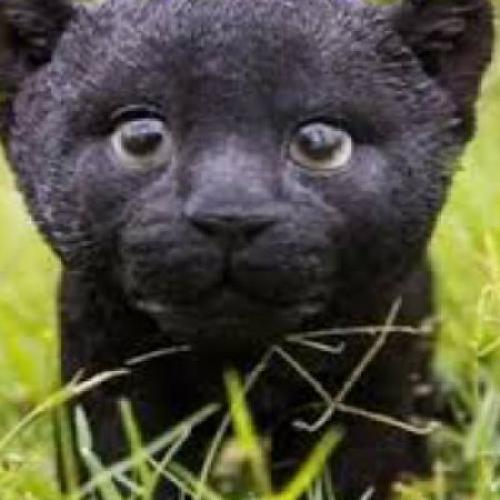panther-endangered: (11, 0, 488, 385)
